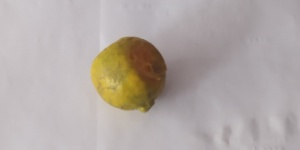BAD: (91, 35, 167, 113)
